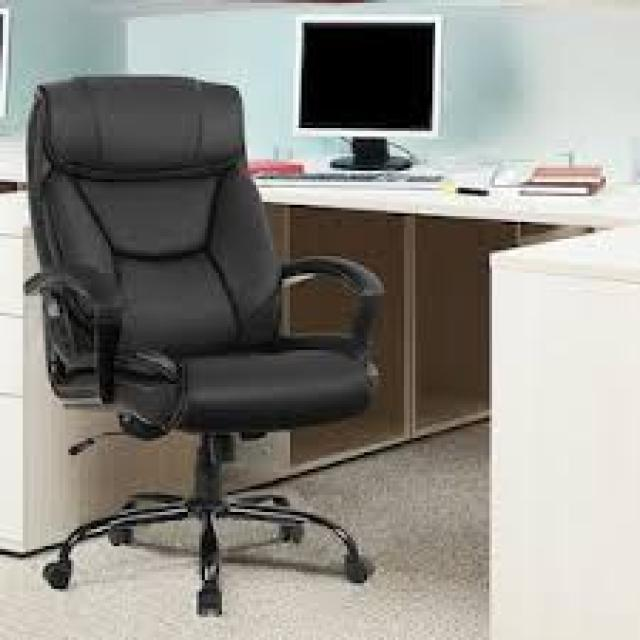chair: (0, 65, 426, 638)
